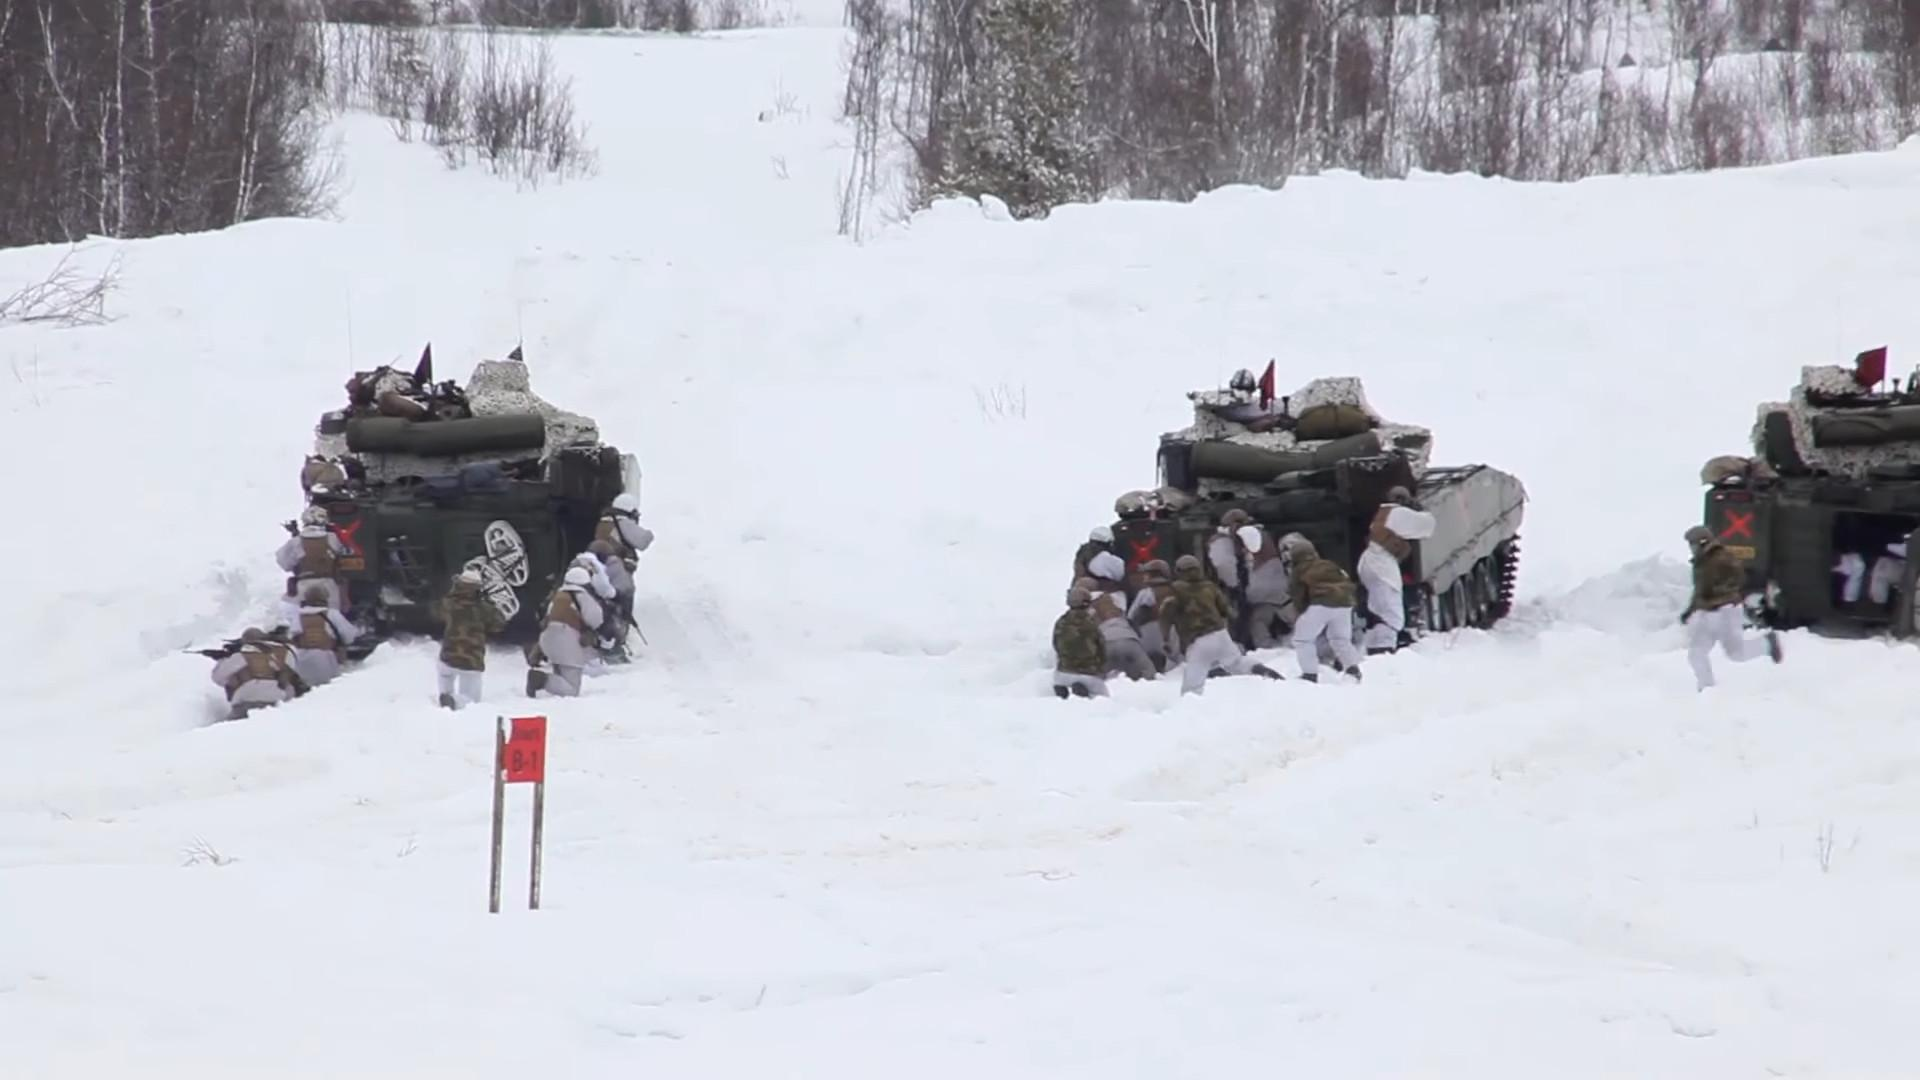tank: (1113, 376, 1524, 633), (297, 359, 641, 649), (1700, 351, 1917, 640)
